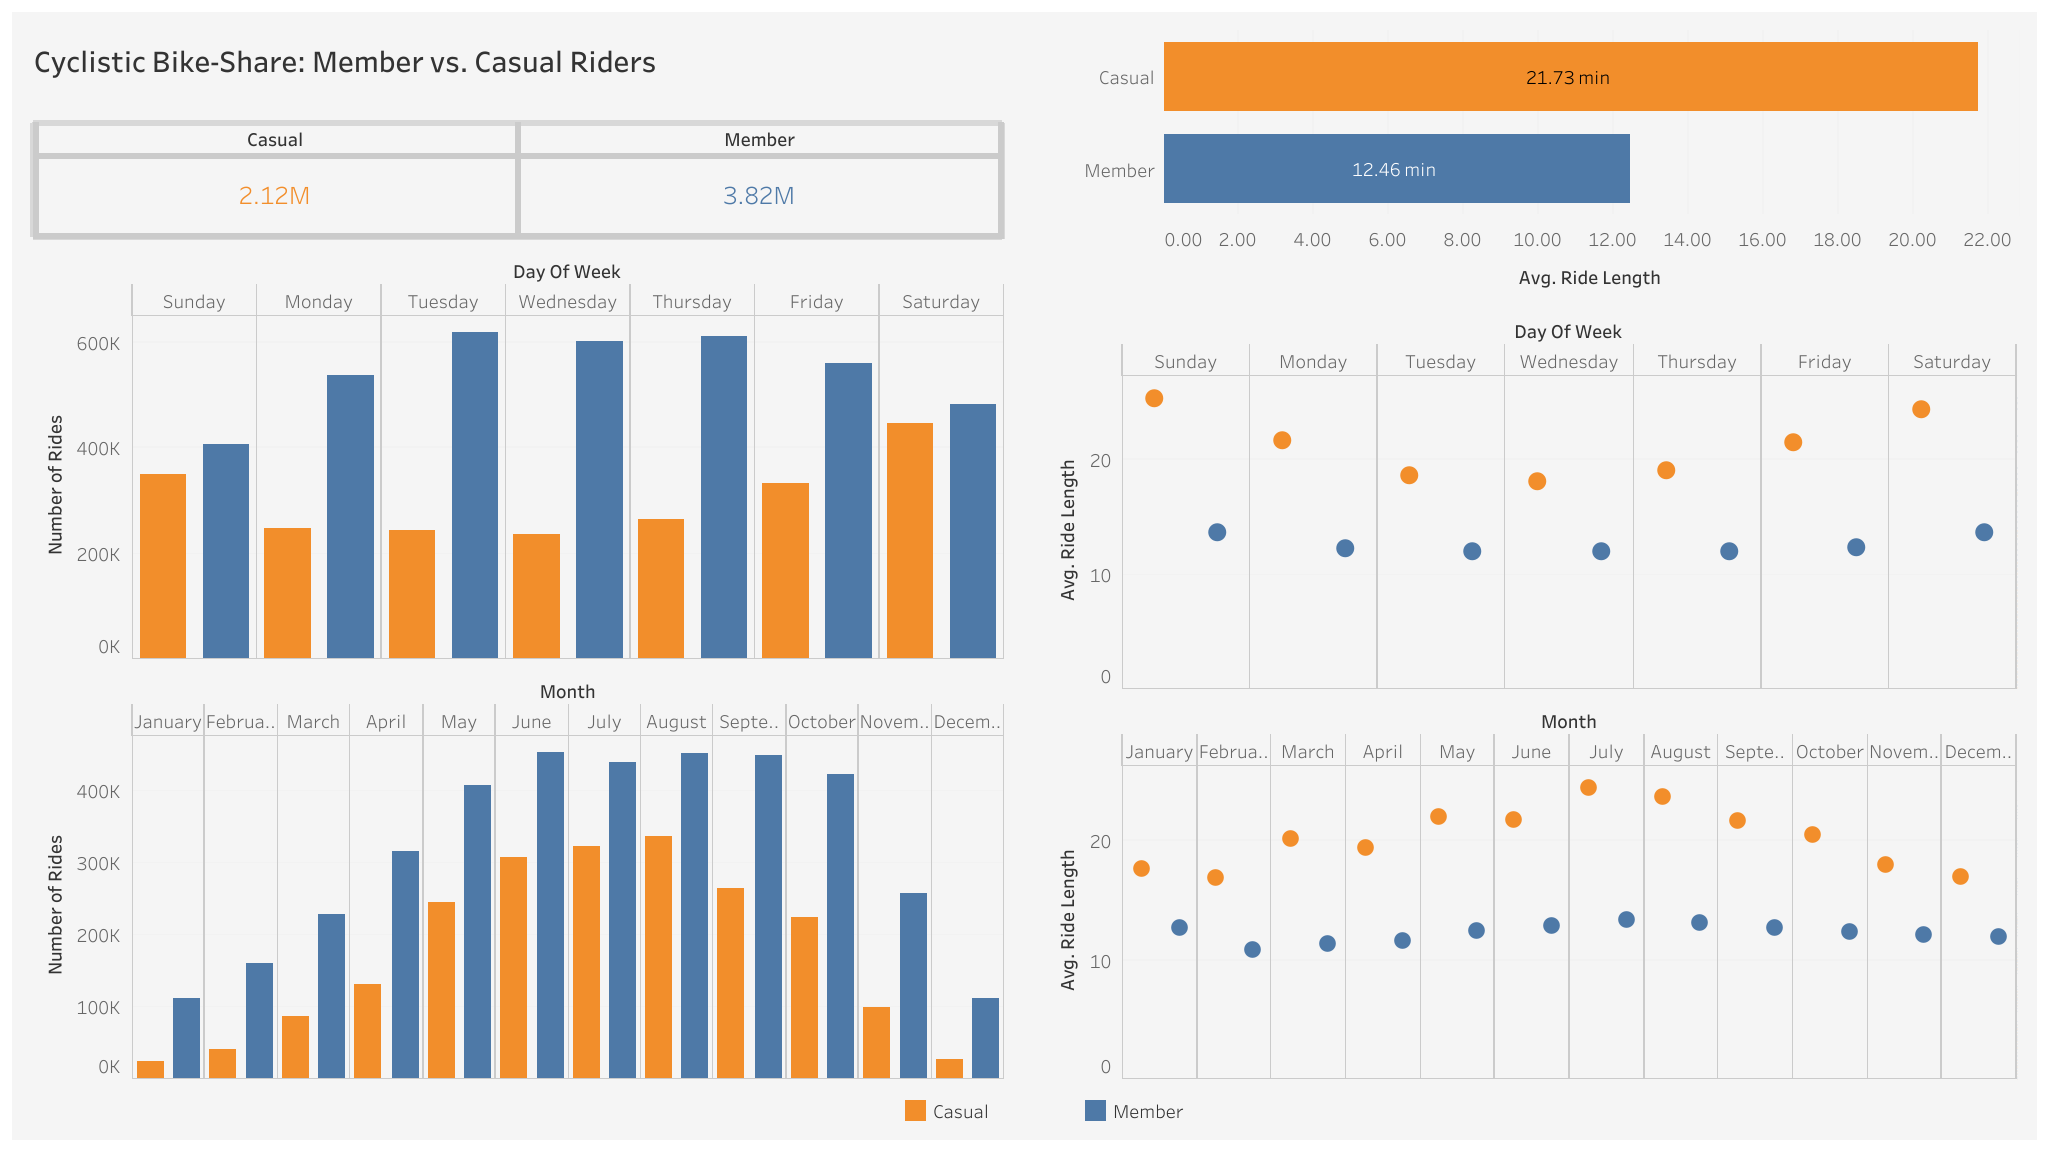

The page's visual inventory and layout, read from the dashboard file:
{"tool":"tableau","page":{"name":"Dashboard 1","canvas":[1366,768],"ordinal":0},"visuals":[{"type":"text","box":[20,10,650,60]},{"type":"worksheet","title":"02_Average_Ride_Length_by_Rider_Type","mark":"Automatic","rows":["member_casual"],"cols":["ride_length"],"box":[695,20,650,180]},{"type":"worksheet","title":"01_Total_Number_of_Rides_by_Rider_Type","mark":"Automatic","cols":["member_casual"],"box":[20,80,650,80]},{"type":"worksheet","title":"03_Total_Number_of_Rides_by_Day_of_Week_and_Rider_Type","mark":"Automatic","rows":["ride_id"],"cols":["day_of_week","member_casual"],"box":[20,170,650,270]},{"type":"worksheet","title":"04_Average_Ride_Length_by_Day_of_Week_and_Rider_Type","mark":"Circle","rows":["ride_length"],"cols":["day_of_week","member_casual"],"box":[695,210,650,250]},{"type":"worksheet","title":"05_Total_Number_of_Rides_by_Month_and_Rider_Type","mark":"Automatic","rows":["ride_id"],"cols":["month","member_casual"],"box":[20,450,650,270]},{"type":"worksheet","title":"06_Average_Ride_Length_by_Month_and_Rider_Type","mark":"Circle","rows":["ride_length"],"cols":["month","member_casual"],"box":[695,470,650,250]},{"type":"legend","title":"03_Total_Number_of_Rides_by_Day_of_Week_and_Rider_Type","param":"[federated.19fljje1tqlh3n1021srg01noljr].[none:member_casual:nk]","box":[600,730,300,30]}]}

Visuals, with their boxes in screenshot pixels (x1, y1, x2, y2), scaled from the page's 1366x768 canvas onto the 2048x1151 screenshot:
text: 30,15,1005,105
"02_Average_Ride_Length_by_Rider_Type" worksheet: 1042,30,2017,300
"01_Total_Number_of_Rides_by_Rider_Type" worksheet: 30,120,1005,240
"03_Total_Number_of_Rides_by_Day_of_Week_and_Rider_Type" worksheet: 30,255,1005,659
"04_Average_Ride_Length_by_Day_of_Week_and_Rider_Type" worksheet (Circle marks): 1042,315,2017,689
"05_Total_Number_of_Rides_by_Month_and_Rider_Type" worksheet: 30,674,1005,1079
"06_Average_Ride_Length_by_Month_and_Rider_Type" worksheet (Circle marks): 1042,704,2017,1079
"03_Total_Number_of_Rides_by_Day_of_Week_and_Rider_Type" legend: 900,1094,1349,1139
